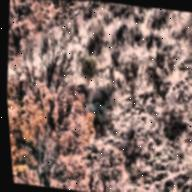boar: (89, 83, 121, 112), (87, 104, 113, 130), (75, 78, 93, 104)
